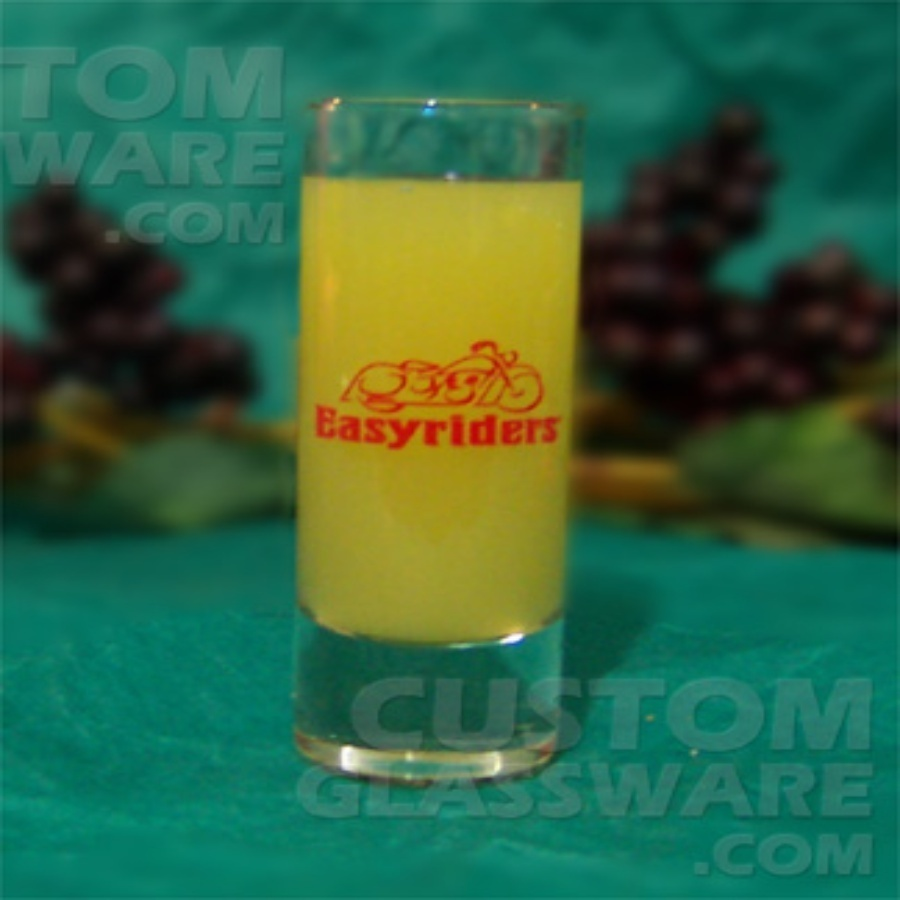whiskey: (294, 99, 611, 787)
